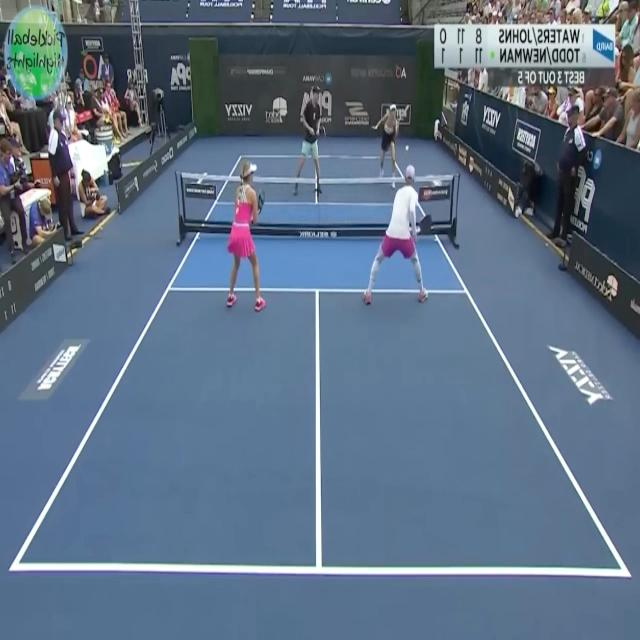Pickleball: (404, 141, 410, 153)
